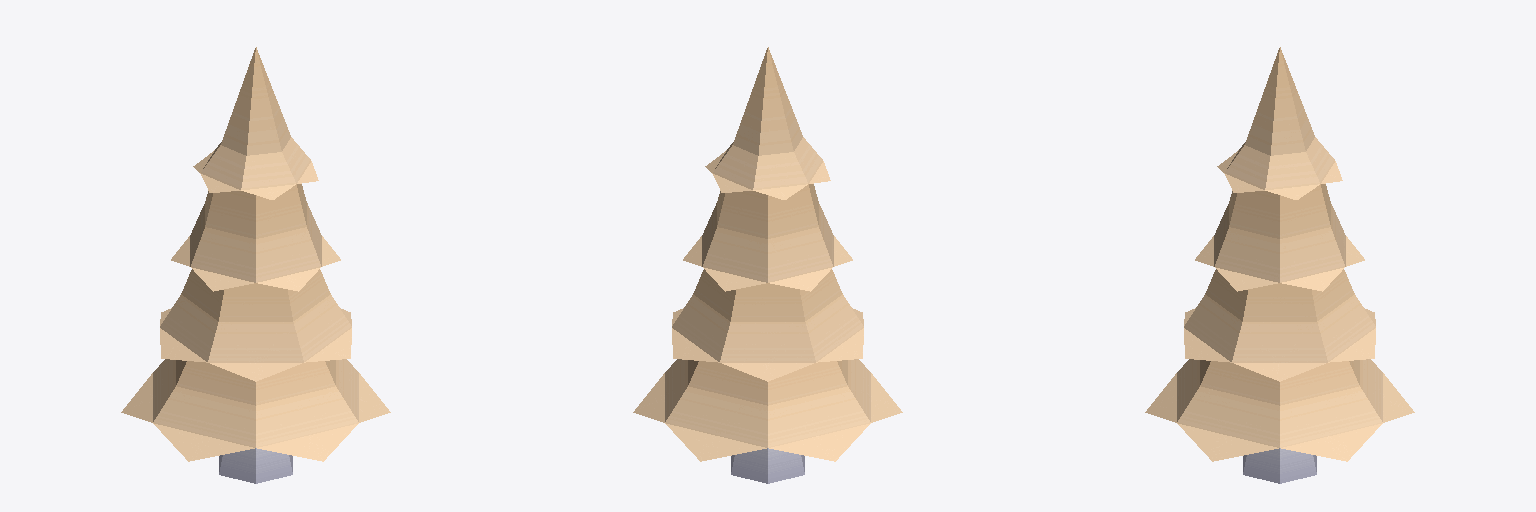
3 views of the same model, side by side, from view 1: azimuth 30°, elevation 25°; view 2: azimuth 150°, elevation 25°; view 3: azimuth 270°, elevation 25° (orthographic).
Visible parts, largest first — view 1: pine.003; view 2: pine.003; view 3: pine.003.
Boxes of the visible parts, <box> form: pine.003: <box>121,47,390,483</box>; pine.003: <box>633,47,902,483</box>; pine.003: <box>1145,47,1414,483</box>.
Bounding box in the file's own units: 2.89 × 5.61 × 3.27.
1 materials, 1 textured.